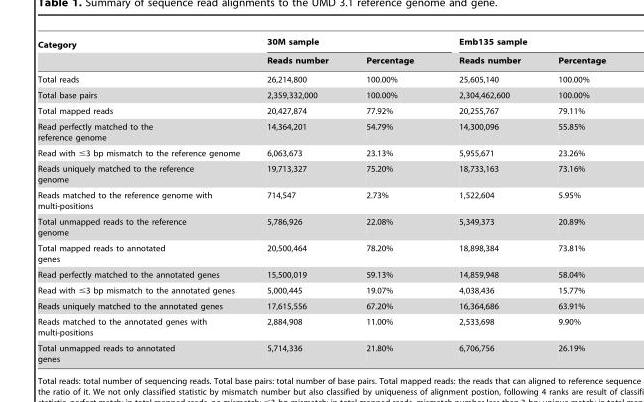table: (36, 37, 605, 363)
table column: (36, 37, 252, 363), (435, 37, 538, 363), (252, 37, 346, 363), (346, 37, 435, 363), (538, 37, 605, 363)
table column header: (36, 37, 605, 69)
table row: (36, 160, 605, 187), (36, 213, 605, 240), (36, 313, 605, 340), (36, 118, 605, 144), (36, 187, 605, 213), (36, 240, 605, 266), (36, 340, 605, 363), (36, 69, 605, 87), (36, 52, 605, 69), (36, 102, 605, 118), (36, 144, 605, 160), (36, 266, 605, 282), (36, 282, 605, 298), (36, 37, 605, 52), (36, 87, 605, 102), (36, 298, 605, 313)
table spanning cell: (36, 37, 252, 69), (252, 37, 435, 52), (435, 37, 605, 52)
